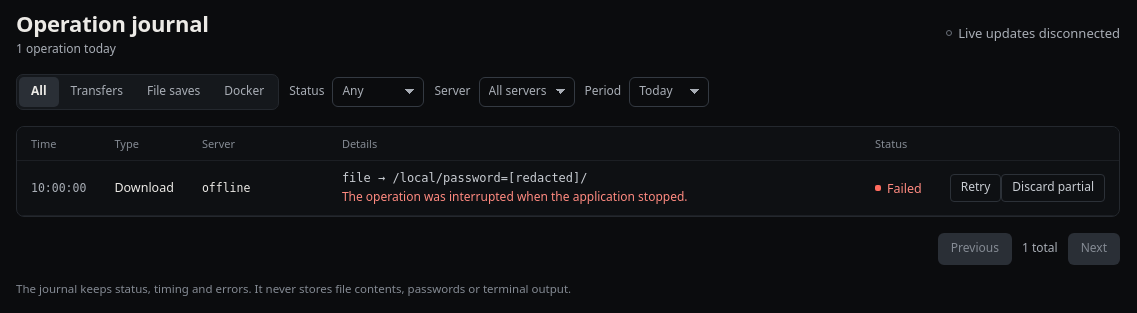
Test: recovered operations › discards a tracked partial even when its byte count is unknown
Click the button "Discard partial".
click(1053, 188)  # box [1001, 174, 1105, 202]
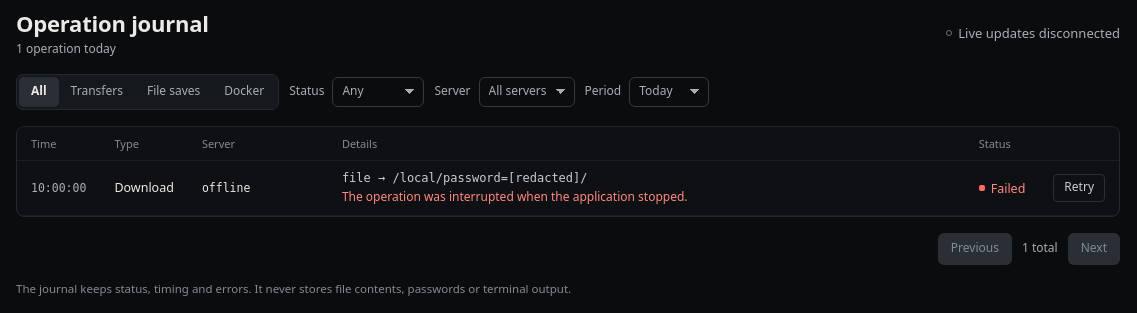
Expected: the button "Discard partial" is gone
